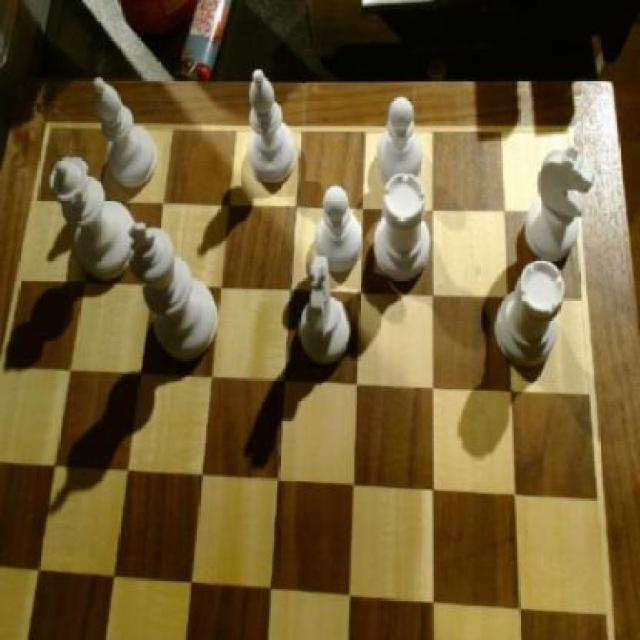black-rook: (91, 75, 166, 187), (238, 68, 302, 190)
white-bishop: (129, 218, 223, 364)
white-king: (512, 142, 604, 269), (297, 256, 357, 364)
white-knight: (371, 97, 429, 192), (312, 188, 368, 278)
white-pawn: (46, 157, 139, 281)
white-queen: (496, 262, 566, 376), (372, 174, 433, 288)
